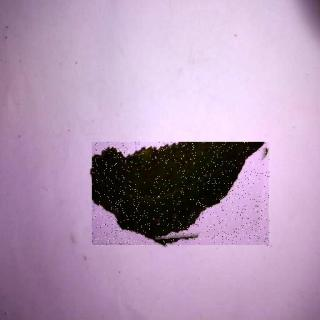Bird Eye Spot: (93, 144, 271, 248)
